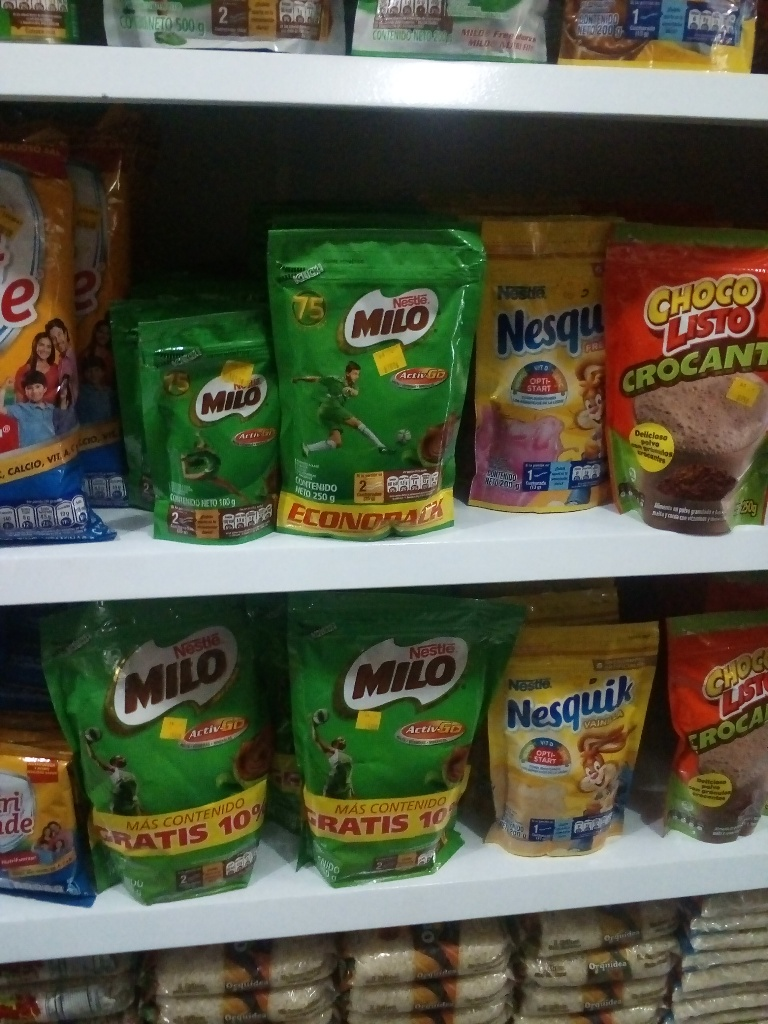COL0170102DYP25000: (606, 220, 767, 534)
COL0170203DYP10000: (124, 307, 288, 545)
COL0170203DYP25000: (263, 226, 472, 543)
COL0170203DYP50000: (37, 603, 292, 906)
COL0170305DYP20000: (472, 216, 628, 515)
COL0170306DYP20000: (481, 625, 660, 855)
